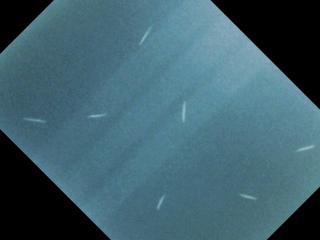scratch: (231, 186, 264, 207), (134, 21, 157, 50), (174, 96, 193, 128), (81, 107, 113, 123), (19, 112, 48, 129), (291, 141, 320, 157), (152, 190, 171, 213)
